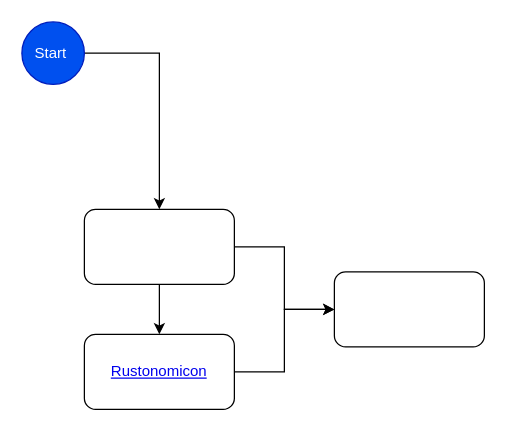
The diagram is 506 pixels wide and 431 high, and some of its shapes have lost their labels. Here are the shapes that lost their labels. From the top down, the centre of each, then its label:
[158,246]: https://rust-lang.github.io/async-book/
[408,309]: https://tokio.rs/
